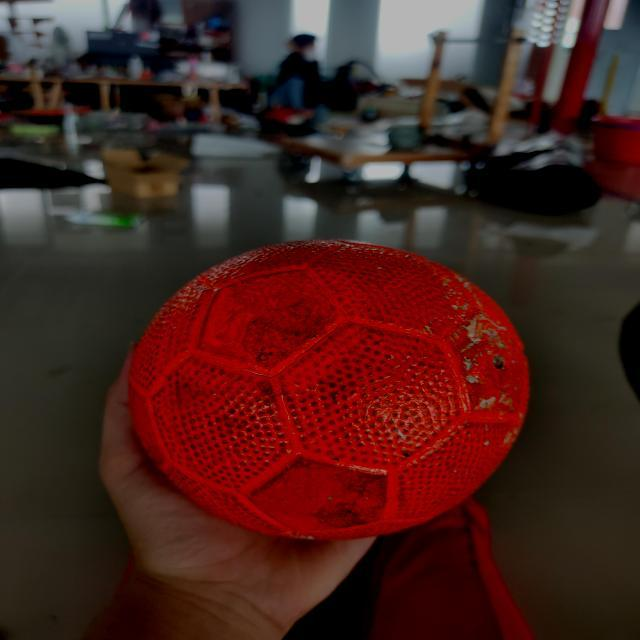bola: (117, 228, 538, 548)
